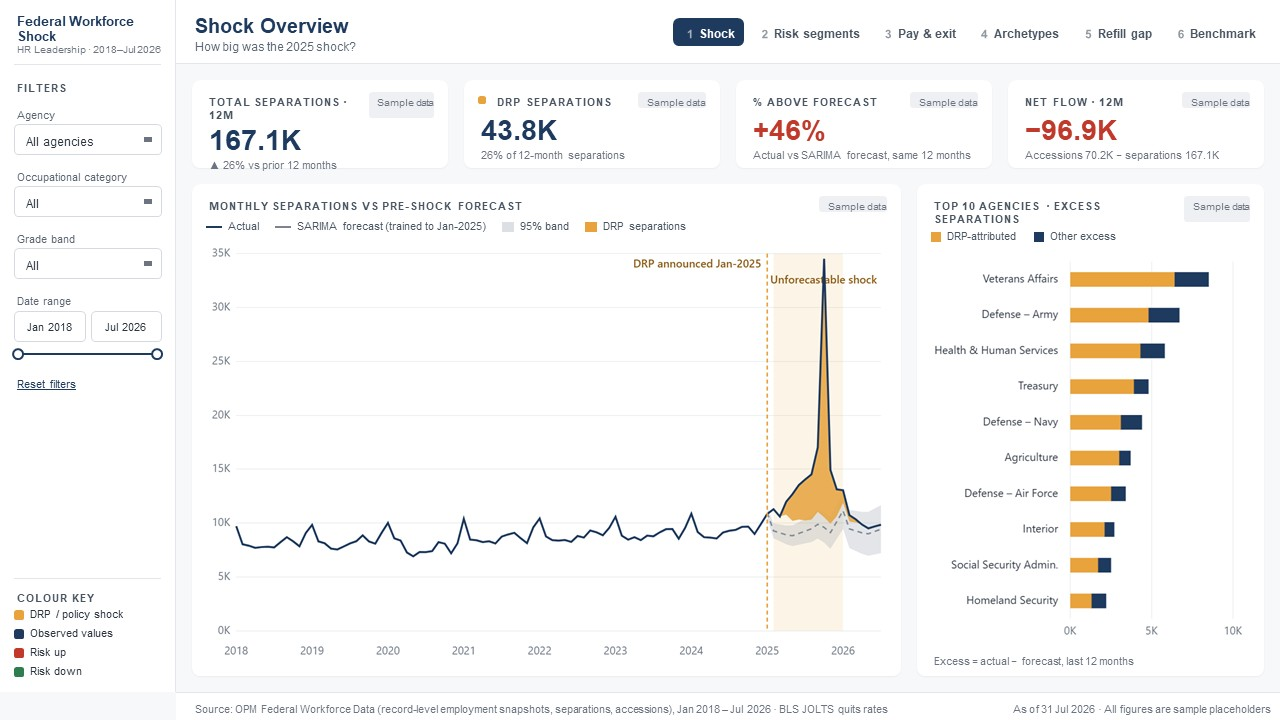

What the dashboard file says about the page in this screenshot:
{"tool":"powerbi","page":{"name":"Page 1","canvas":[1280,720],"ordinal":0},"visuals":[{"type":"shape","box":[167.7,688.5,1112.3,31.5],"z":0},{"type":"shape","box":[0.2,0,177.5,720],"z":1000},{"type":"shape","box":[177.5,0,1102.5,61.2],"z":2000},{"type":"shape","box":[188.8,76.3,258.8,92.5],"z":3000,"group":"g3"},{"type":"shape","box":[461.2,76.2,258.8,92.5],"z":4000},{"type":"shape","box":[733.8,76.2,258.8,92.5],"z":5000},{"type":"shape","box":[1006.2,76.2,258.8,92.5],"z":6000},{"type":"shape","box":[918.8,182.5,346.2,496.2],"z":7000},{"type":"shape","box":[188.8,182.5,713.8,496.2],"z":8000},{"type":"textbox","box":[177.8,0,228.9,36.7],"z":9000},{"type":"shape","box":[664.9,17.1,74,30],"z":9000,"group":"g2"},{"type":"textbox","box":[177.8,28.9,192.2,32.2],"z":10000},{"type":"textbox","box":[748.2,17.1,111.7,30],"z":11000},{"type":"textbox","box":[671.6,17.6,60.6,30],"z":12000,"group":"g2"},{"type":"textbox","box":[178,689,676,31],"z":12000},{"type":"textbox","box":[866.8,16.9,90.8,30],"z":13000},{"type":"textbox","box":[964.5,17.1,96.4,30],"z":14000},{"type":"textbox","box":[1067.9,17.1,88.8,30],"z":15000},{"type":"textbox","box":[1163.6,17.1,101.4,30],"z":16000},{"type":"group","id":"g1","title":"Group 1","box":[664.9,17.1,74,30.5],"z":17000},{"type":"group","id":"g2","title":"Group 2","box":[664.9,17.1,74,30.5],"z":17001,"group":"g1"},{"type":"textbox","box":[0,0,166.2,32.3],"z":18000},{"type":"textbox","box":[0,29.2,177.7,27.7],"z":19000},{"type":"shape","box":[10.1,52.3,157.7,18.5],"z":20000},{"type":"textbox","box":[8.1,67.6,166.2,32.3],"z":21000},{"type":"textbox","box":[8.1,95.2,66.5,27.4],"z":22000},{"type":"textbox","box":[8.1,149.2,125.4,27.7],"z":23000},{"type":"textbox","box":[8.1,200,125.2,27.8],"z":24000},{"type":"textbox","box":[8.1,264.4,125.6,28.1],"z":25000},{"type":"slicer","fields":{"Values":["dim_agency.agency"]},"box":[8.1,119.6,163,34.3],"z":26000},{"type":"slicer","fields":{"Values":["fact_separations.grade_band"]},"box":[8.1,225,163.1,34],"z":27000},{"type":"slicer","fields":{"Values":["fact_accessions.occ_cat"]},"box":[8.1,168.8,163.1,33.8],"z":28000},{"type":"slicer","fields":{"Values":["dim_date.date_ms"]},"box":[10,292.2,163.3,122.2],"z":29000},{"type":"shape","box":[10.9,581.9,156.9,18.5],"z":30000},{"type":"shape","box":[17.8,629.5,13.5,12.2],"z":31000},{"type":"shape","box":[17.8,649.4,13.1,11.9],"z":32000},{"type":"shape","box":[17.8,668.9,13.1,11.9],"z":33000},{"type":"shape","box":[17.8,688.5,13.1,11.9],"z":34000},{"type":"textbox","box":[31.8,620,124.7,27.6],"z":35000},{"type":"textbox","box":[32.4,641.2,124.7,27.1],"z":36000},{"type":"textbox","box":[32.4,658.8,124.7,27.6],"z":37000},{"type":"textbox","box":[32.4,680,124.7,27.6],"z":38000},{"type":"textbox","box":[10.4,594.9,124.5,27.3],"z":39000},{"type":"card","fields":{"Values":["Sum(fact_separations.separations)"]},"box":[243.5,105.7,149.1,33.5],"z":40000,"group":"g3"},{"type":"textbox","box":[188.7,76.1,177.8,27.8],"z":41000,"group":"g3"},{"type":"textbox","box":[462.1,77.1,177.9,28.6],"z":42000},{"type":"card","fields":{"Values":["fact_separations.Separations YoY %"]},"box":[215.7,142.2,42.2,24.8],"z":43000,"group":"g3"},{"type":"textbox","box":[248.6,142.2,177.9,27.1],"z":44000,"group":"g3"},{"type":"card","fields":{"Values":["fact_separations.Separations YoY Indicator"]},"box":[197.4,142.2,28.3,27.4],"z":44001,"group":"g3"},{"type":"group","id":"g3","title":"Group 3","box":[188.7,76.1,258.8,93.4],"z":44002}]}

Visuals, with their boxes in screenshot pixels (x1, y1, x2, y2), scaled from the page's 1280x720 canvas onto the 1280x720 screenshot:
shape: detection(168, 688, 1279, 719)
shape: detection(0, 0, 178, 719)
shape: detection(178, 0, 1279, 61)
shape: detection(189, 76, 448, 169)
shape: detection(461, 76, 720, 169)
shape: detection(734, 76, 993, 169)
shape: detection(1006, 76, 1265, 169)
shape: detection(919, 182, 1265, 679)
shape: detection(189, 182, 903, 679)
textbox: detection(178, 0, 407, 37)
shape: detection(665, 17, 739, 47)
textbox: detection(178, 29, 370, 61)
textbox: detection(748, 17, 860, 47)
textbox: detection(672, 18, 732, 48)
textbox: detection(178, 689, 854, 719)
textbox: detection(867, 17, 958, 47)
textbox: detection(964, 17, 1061, 47)
textbox: detection(1068, 17, 1157, 47)
textbox: detection(1164, 17, 1265, 47)
"Group 1" group: detection(665, 17, 739, 48)
"Group 2" group: detection(665, 17, 739, 48)
textbox: detection(0, 0, 166, 32)
textbox: detection(0, 29, 178, 57)
shape: detection(10, 52, 168, 71)
textbox: detection(8, 68, 174, 100)
textbox: detection(8, 95, 75, 123)
textbox: detection(8, 149, 134, 177)
textbox: detection(8, 200, 133, 228)
textbox: detection(8, 264, 134, 292)
slicer - dim_agency.agency: detection(8, 120, 171, 154)
slicer - fact_separations.grade_band: detection(8, 225, 171, 259)
slicer - fact_accessions.occ_cat: detection(8, 169, 171, 203)
slicer - dim_date.date_ms: detection(10, 292, 173, 414)
shape: detection(11, 582, 168, 600)
shape: detection(18, 630, 31, 642)
shape: detection(18, 649, 31, 661)
shape: detection(18, 669, 31, 681)
shape: detection(18, 688, 31, 700)
textbox: detection(32, 620, 156, 648)
textbox: detection(32, 641, 157, 668)
textbox: detection(32, 659, 157, 686)
textbox: detection(32, 680, 157, 708)
textbox: detection(10, 595, 135, 622)
card - Sum(fact_separations.separations): detection(244, 106, 393, 139)
textbox: detection(189, 76, 366, 104)
textbox: detection(462, 77, 640, 106)
card - fact_separations.Separations YoY %: detection(216, 142, 258, 167)
textbox: detection(249, 142, 426, 169)
card - fact_separations.Separations YoY Indicator: detection(197, 142, 226, 170)
"Group 3" group: detection(189, 76, 448, 170)
